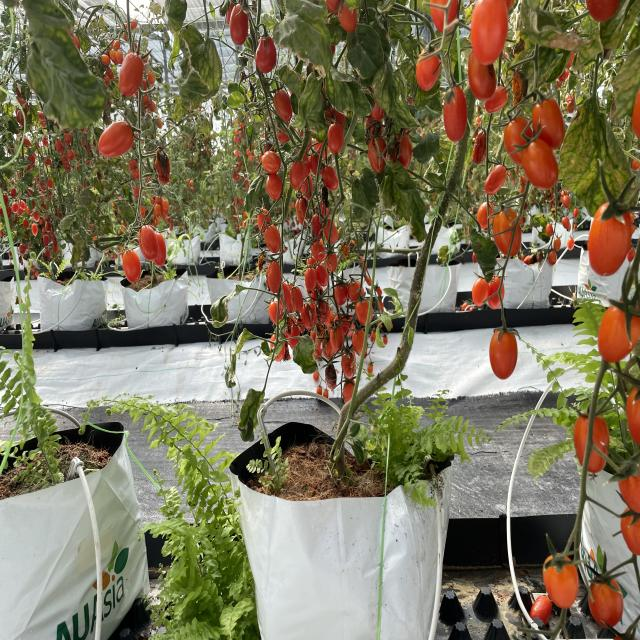Obstacle: (506, 360, 627, 640), (256, 388, 341, 487), (70, 453, 102, 640)
Soilbag: (237, 487, 445, 640), (0, 426, 146, 640), (582, 389, 640, 640)
plant: (224, 0, 435, 493), (497, 0, 640, 219)
